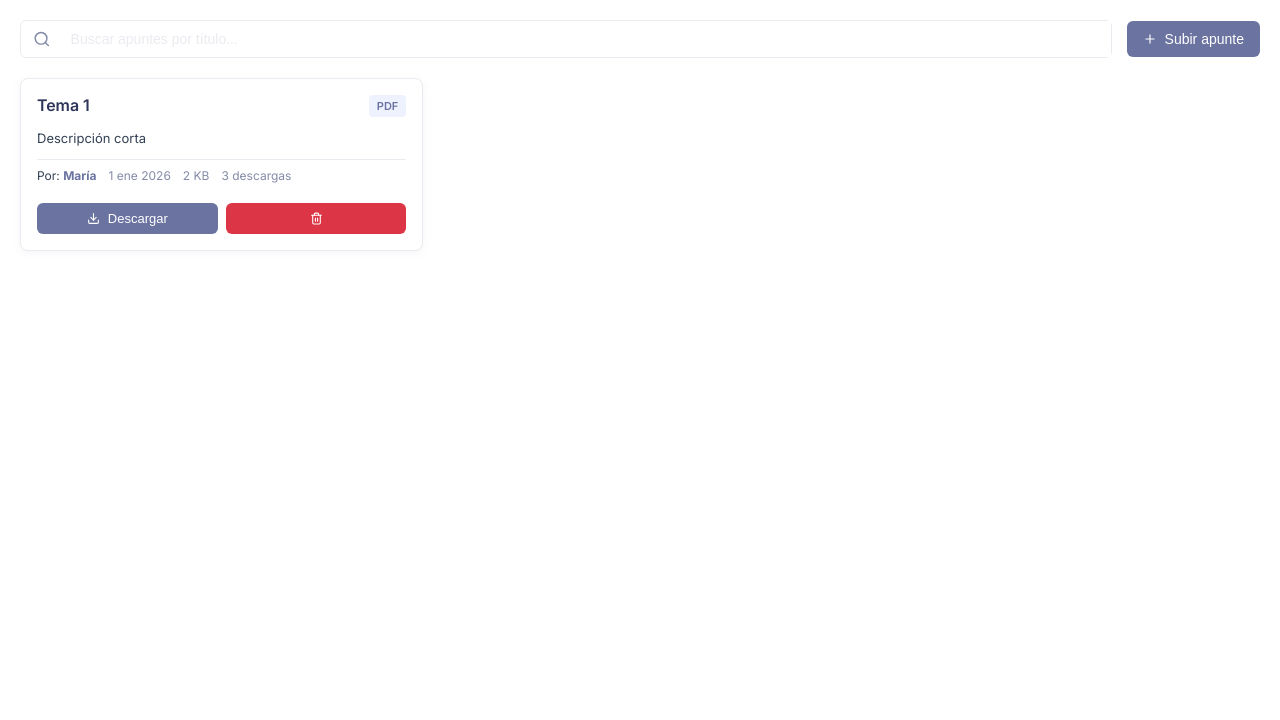
Scenario: CommunityApuntesTab › closes upload form when cancel button is clicked
Expected: the heading "Tema 1" is shown, [37, 95, 90, 115]
Step 1. Click the button "Subir apunte" → click(1193, 39), box [1127, 21, 1260, 57]
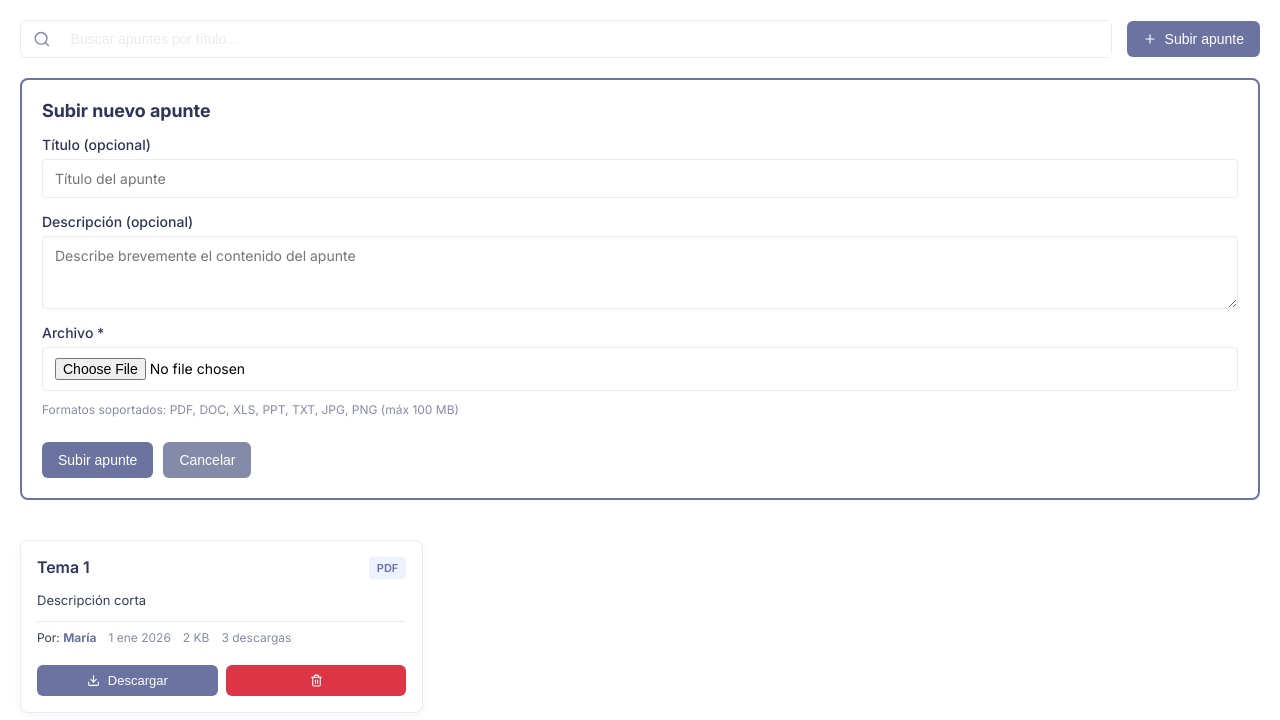
Expected: the heading "Subir nuevo apunte" is shown, [42, 100, 211, 121]
Step 2. Click the button "Cancelar" → click(207, 460), box [163, 442, 251, 478]
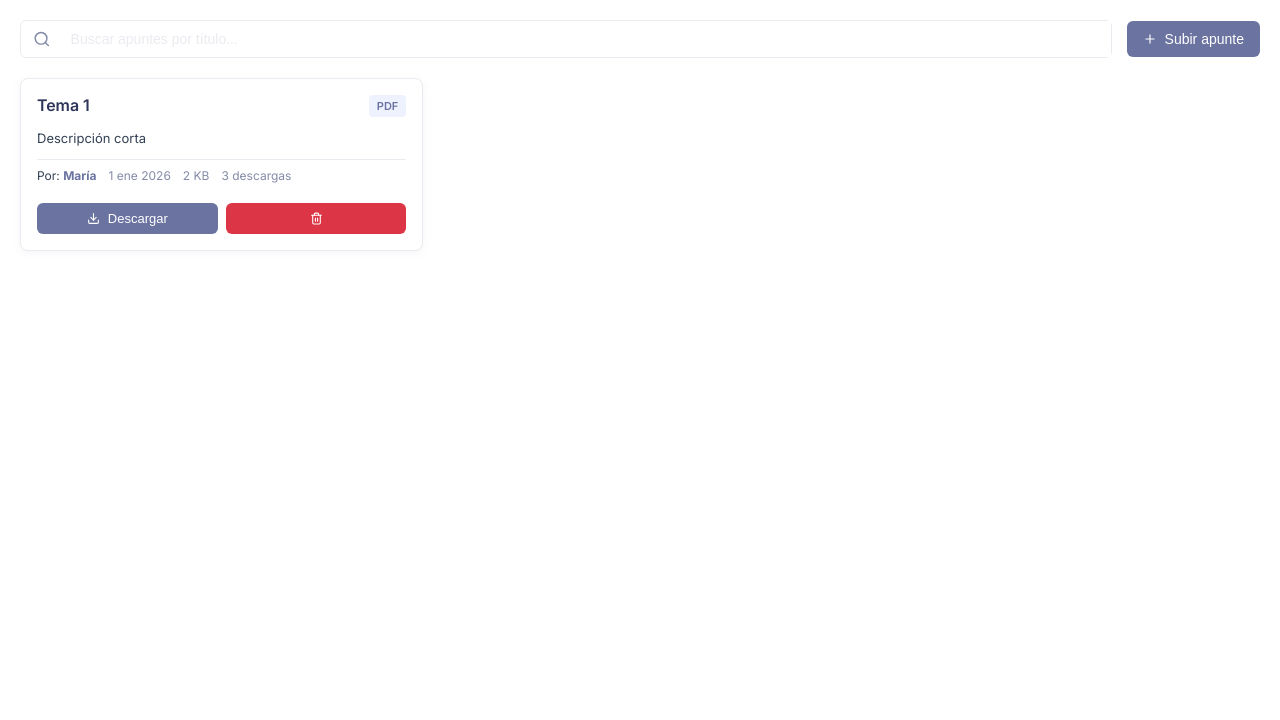
Expected: the heading "Subir nuevo apunte" is gone
